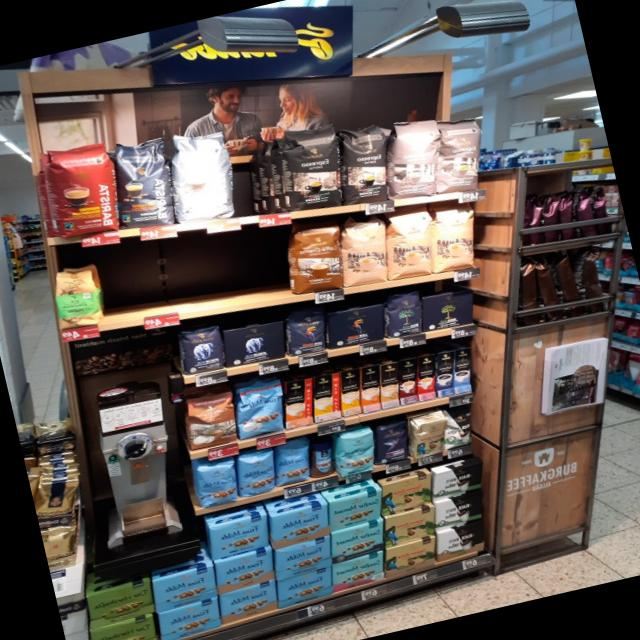AB Bohne: (178, 321, 227, 376)
AB Gemahlen: (223, 319, 286, 369)
Athiopien Bohne: (53, 265, 105, 331)
BM Bohne: (385, 287, 422, 339)
BM Gemahlen: (421, 287, 474, 332)
BW Bohne: (443, 404, 474, 451)
BW Gemahlen: (432, 457, 484, 503), (435, 487, 485, 534), (435, 518, 486, 563)
Barista CC: (167, 128, 235, 222)
Barista Espresso: (112, 133, 178, 228)
Barista Kolumbien: (44, 138, 122, 239)
C Fino Bohne: (374, 417, 411, 467)
CC Mild: (386, 204, 431, 280), (341, 215, 388, 287), (433, 201, 477, 273)
CC Vollmundig: (184, 385, 239, 452)
CC Vollmundig 36 Pads: (289, 216, 346, 294)
Colombia BB Bohne: (413, 411, 445, 460)
Colombia BB Gemahlen: (380, 470, 431, 518), (383, 503, 434, 549), (384, 534, 435, 579)
Empty Shelf: (104, 228, 285, 320)
Espresso Aromatisch: (390, 114, 440, 198), (438, 112, 484, 193)
Espresso Kraftig: (281, 120, 347, 212), (341, 121, 390, 206)
FM 36 Pads: (235, 375, 284, 441)
FM Bohne: (194, 457, 239, 510), (236, 447, 277, 500), (274, 435, 310, 488)
FM Gemahlen: (152, 563, 219, 613), (207, 511, 270, 562), (214, 546, 275, 594), (270, 501, 331, 549), (158, 595, 221, 640), (219, 577, 278, 624), (273, 535, 331, 582), (277, 565, 331, 609)
FM Instant: (308, 437, 337, 481)
Herzhatfe Mundig: (83, 577, 154, 631), (89, 612, 155, 640)
LG Bohne: (286, 306, 328, 357)
LG Gemahlen: (327, 300, 386, 351)
SM Bohne: (335, 426, 375, 477)
SM Gemahlen: (330, 517, 383, 565), (329, 487, 381, 533), (331, 548, 383, 593)
Simo CCMild: (312, 371, 340, 422)
Simo CCMild bigpack: (340, 366, 361, 417)
Simo CCVollmundig: (284, 377, 312, 429)
Simo CCVollmundig bigpack: (361, 363, 380, 413)
Simo Decaff: (380, 361, 399, 408)
Simo Es Brazil: (417, 353, 436, 400)
Simo Es Caramel: (400, 356, 418, 405)
Simo Es Kraft: (436, 349, 454, 397)
Simo Es Vanilla: (454, 346, 471, 393)
